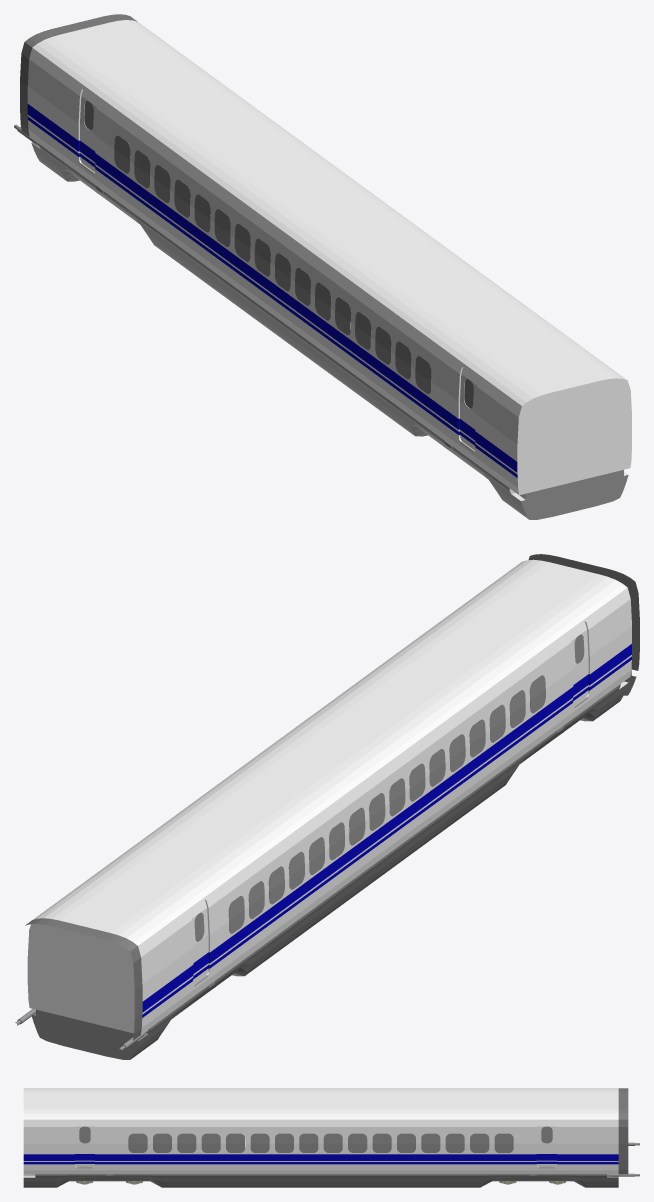
File: JR700-simple-car2.glb
3 renders of one model, top to bottom at view 1: azimuth 30°, elevation 25°; view 2: azimuth 150°, elevation 25°; view 3: azimuth 270°, elevation 25°, orthographic. The views are drawn at different scales.
Visible parts, largest first — view 1: コンポーネント#1, Component#4, Component#2.001, Component#2.003; view 2: コンポーネント#1, root, Component#4, Component#2.003, Component#2.001; view 3: コンポーネント#1, Component#2, Component#4, Component#2.002, Component#3.004, Component#3.014, Component#3.008, Component#3.018, Component#3.024, Component#3.030, Component#3.028, Component#3 (+8 smaller).
Part boxes in pixels (x1,y1,x2,y2): コンポーネント#1: (27, 20, 631, 519); Component#4: (20, 14, 137, 136); Component#2.001: (80, 88, 98, 172); Component#2.003: (460, 366, 478, 450); コンポーネント#1: (27, 559, 631, 1059); root: (528, 554, 639, 695); Component#4: (25, 918, 142, 1040); Component#2.003: (570, 621, 588, 705); Component#2.001: (190, 899, 208, 984); コンポーネント#1: (23, 1088, 618, 1187); Component#2: (536, 1121, 556, 1166); Component#4: (618, 1088, 628, 1174); Component#2.002: (75, 1121, 94, 1166); Component#3.004: (421, 1133, 440, 1152); Component#3.014: (299, 1133, 318, 1152); Component#3.008: (372, 1133, 391, 1152); Component#3.018: (250, 1133, 269, 1152); Component#3.024: (177, 1133, 196, 1152); Component#3.030: (494, 1133, 513, 1152); Component#3.028: (128, 1133, 147, 1152); Component#3: (470, 1133, 489, 1152).
Bounding box in the file's own units: 3.38 × 3.58 × 26.29.
11 materials, 3 textured.
